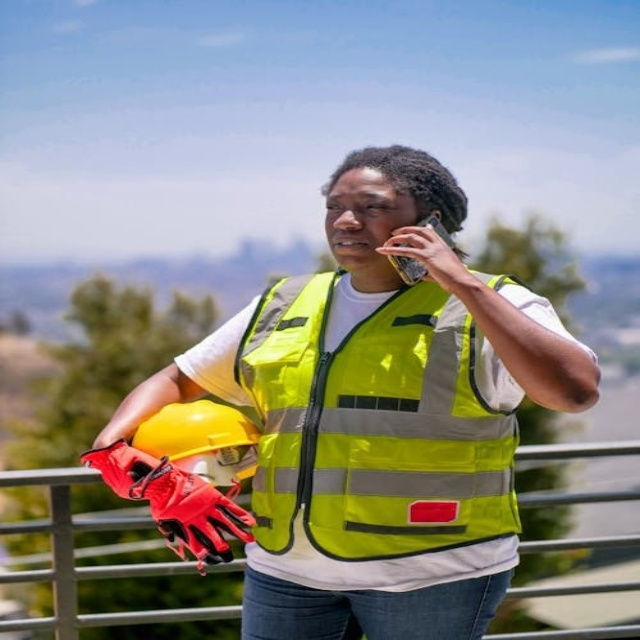Guantes: (135, 462, 260, 571), (78, 437, 167, 503)
Sin_gafas: (325, 192, 397, 216)
Sin_guantes: (375, 224, 471, 285)
Sin_mascara: (326, 234, 374, 263)
